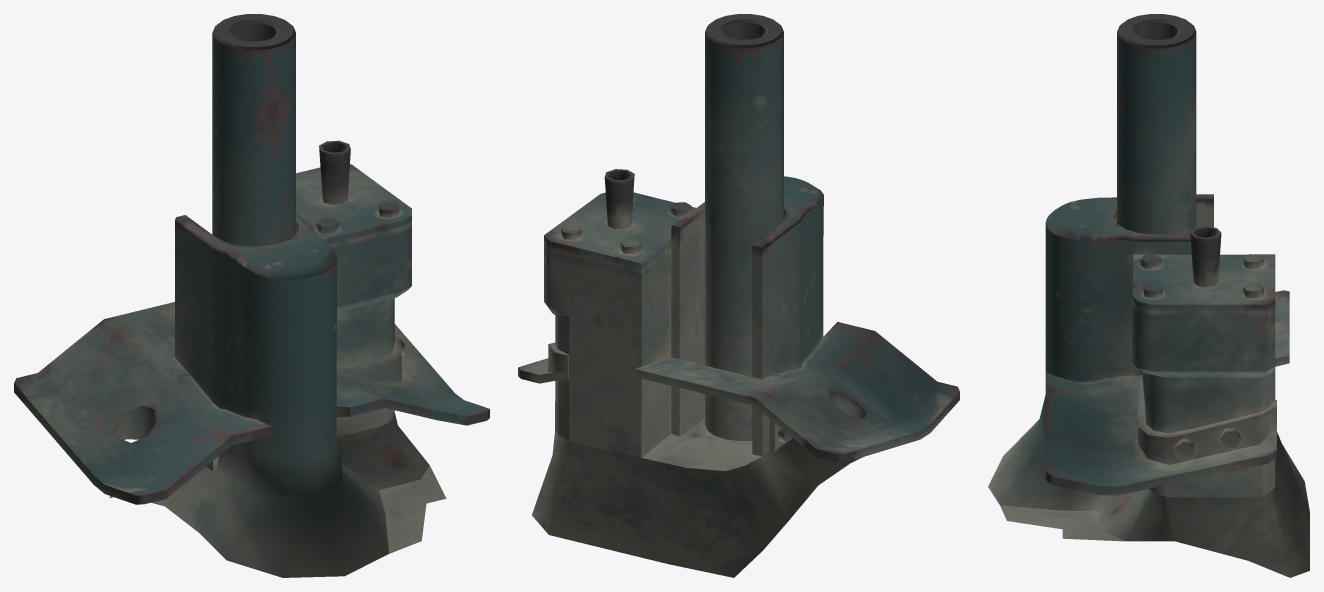
File: Gun_03.glb
3 renders of one model, left to right at view 1: azimuth 30°, elevation 25°; view 2: azimuth 150°, elevation 25°; view 3: azimuth 270°, elevation 25°, orthographic. The views are drawn at different scales.
Visible parts, largest first — view 1: set_0_group_0; view 2: set_0_group_0; view 3: set_0_group_0.
Part boxes in pixels (x1,y1,x2,y2): set_0_group_0: [14, 14, 489, 577]; set_0_group_0: [518, 14, 959, 577]; set_0_group_0: [988, 14, 1309, 577].
Bounding box in the file's own units: 0.4242 × 0.5811 × 0.3512.
1 material, 1 textured.
